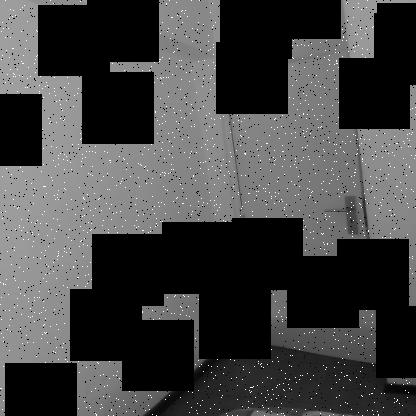Porte: (213, 47, 383, 367)
